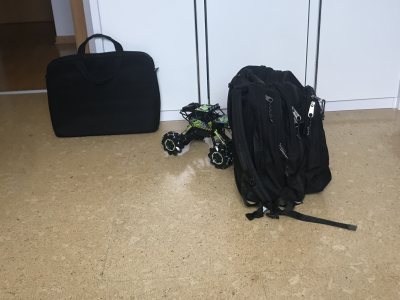remote control car: (160, 96, 238, 171)
